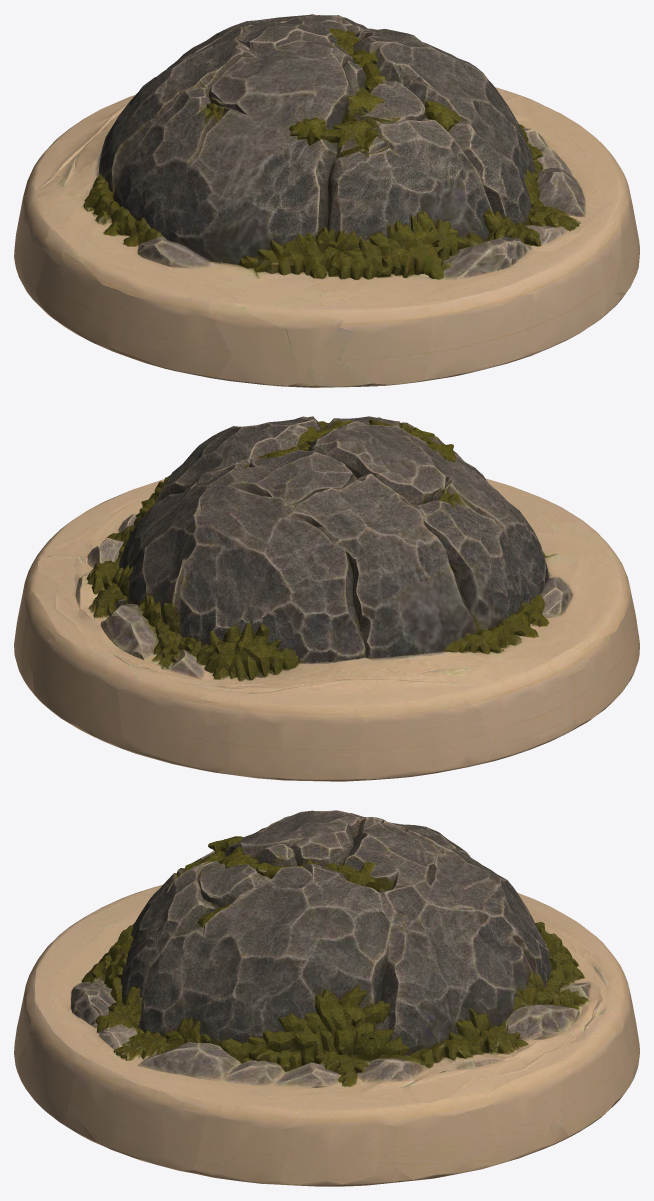
Rendered from ROCHER.glb.
3 views of the same model, one above another, from view 1: azimuth 30°, elevation 25°; view 2: azimuth 150°, elevation 25°; view 3: azimuth 270°, elevation 25° (orthographic).
Visible parts, largest first — view 1: Mesh_0; view 2: Mesh_0; view 3: Mesh_0.
Boxes of the visible parts, left/top/right/bottom form: Mesh_0: left=14, top=14, right=639, bottom=387; Mesh_0: left=14, top=416, right=639, bottom=781; Mesh_0: left=14, top=810, right=639, bottom=1186.
Bounding box in the file's own units: 1.9 × 0.7381 × 1.9.
Materials: 1 (1 with a texture image).
